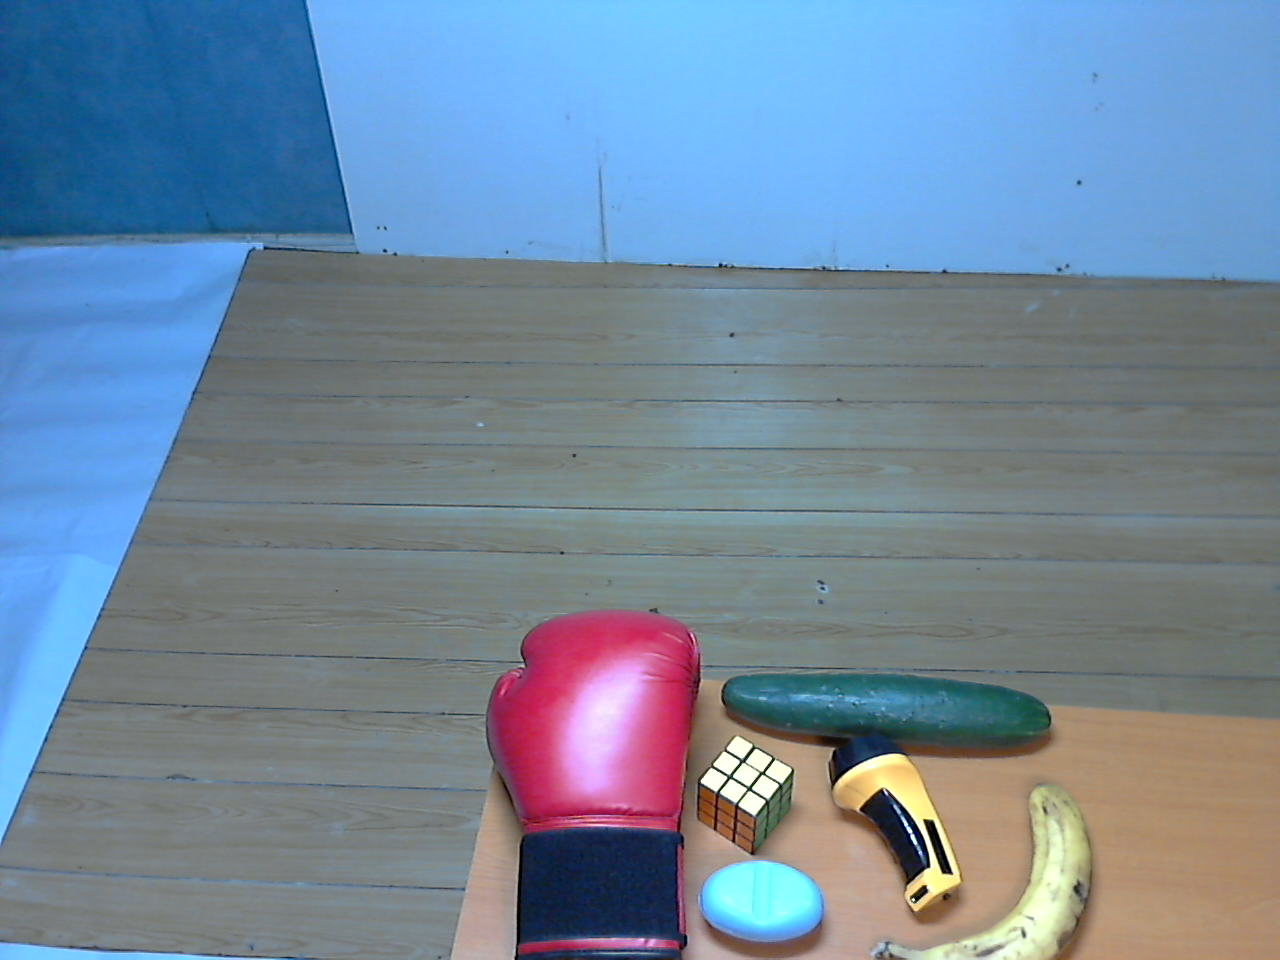cubix: (685, 726, 804, 864)
guante: (463, 597, 732, 960)
jabon: (692, 844, 839, 951)
linterna: (817, 720, 980, 928)
pepino: (703, 648, 1071, 764)
platano: (857, 781, 1112, 960)
